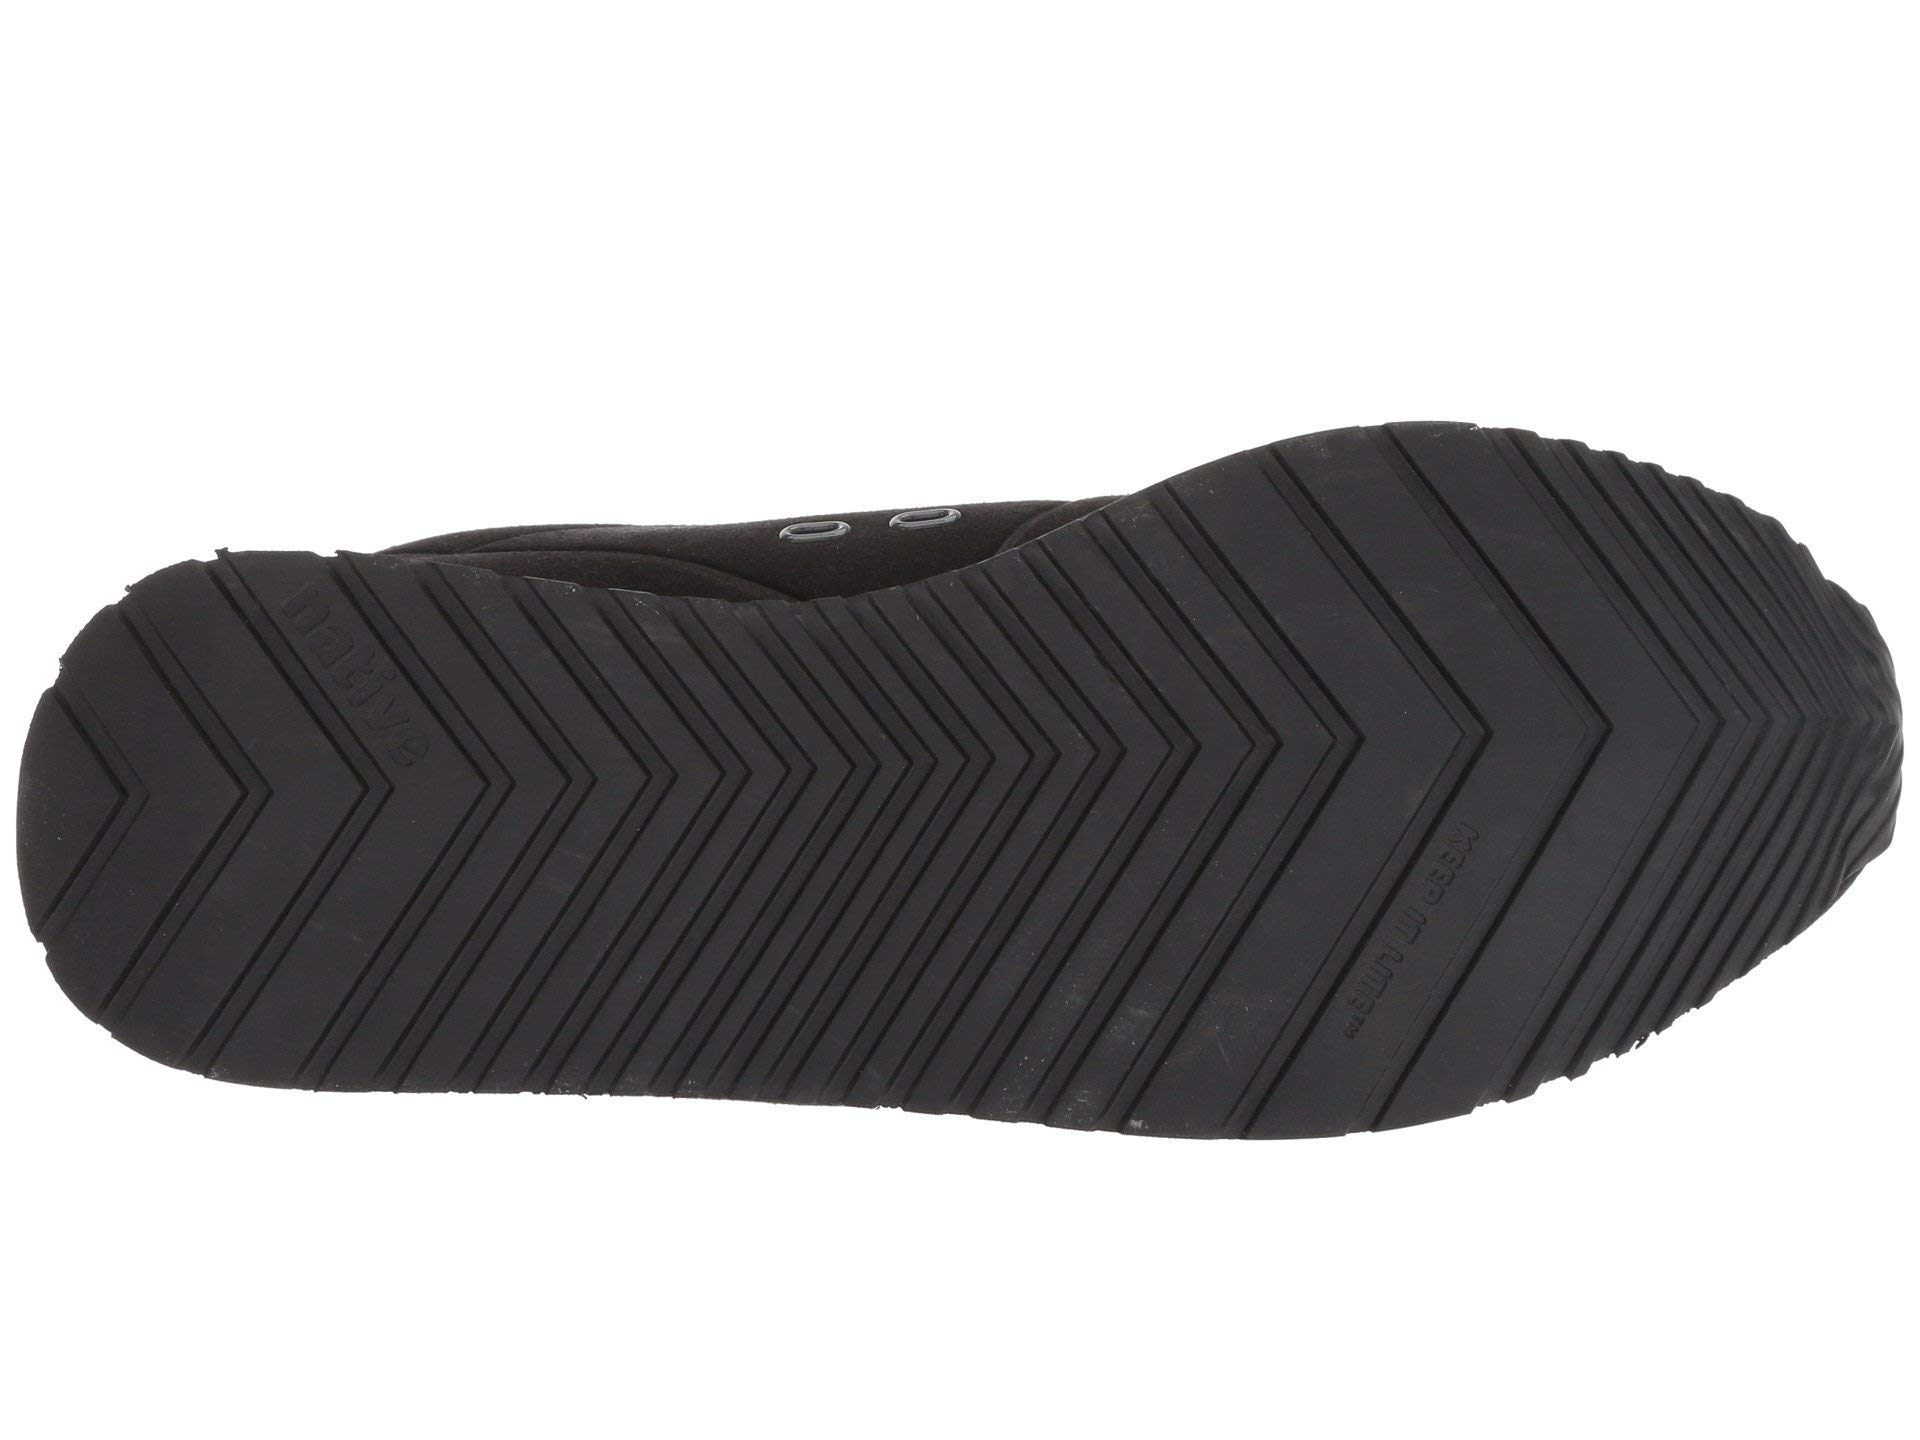chevron: (475, 641, 763, 954), (1104, 670, 1361, 957), (206, 566, 466, 849), (1613, 628, 1828, 839), (789, 694, 955, 855)
line: (1386, 797, 1630, 1047), (1176, 895, 1388, 1091)
text: (206, 566, 466, 849), (1386, 797, 1630, 1047), (1176, 895, 1388, 1091)
